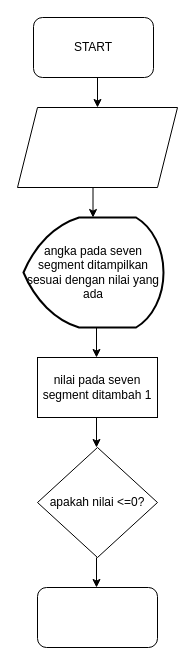
Image size: 195x665. Some labels were removed from this diagram. Each missing label, with the centre of its shape:
"END" belongs at (x=97, y=617).
"nilai awal seven segmemt diatur menjadi 20" belongs at (x=97, y=147).
